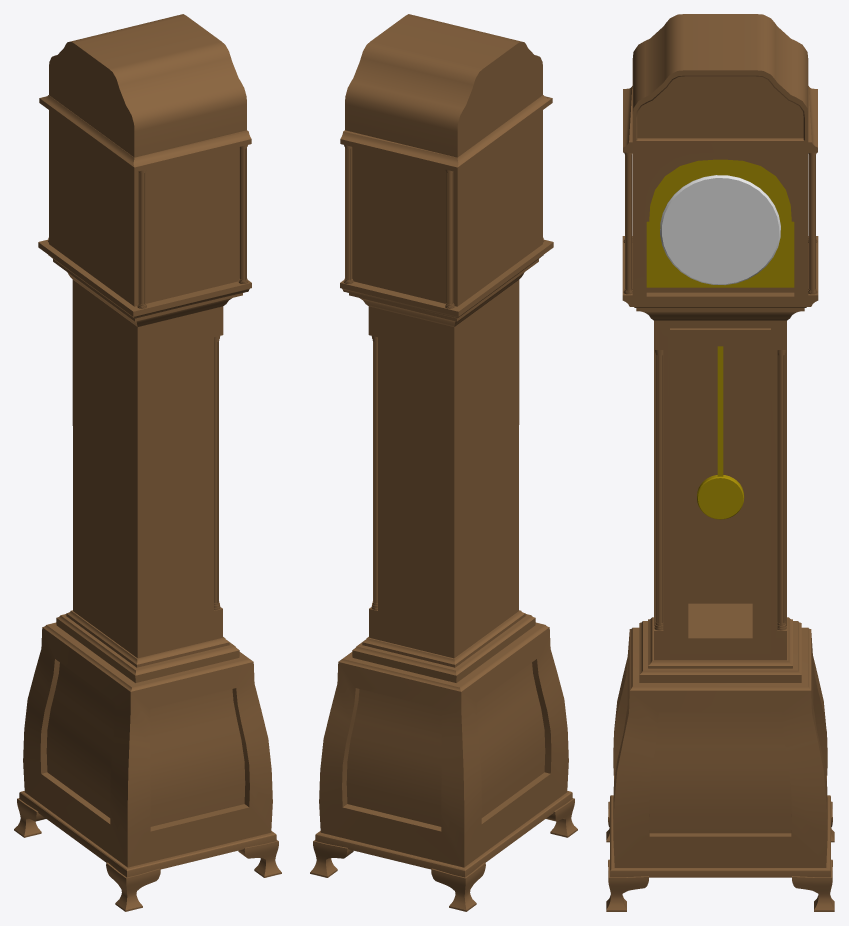
File: retro_clock.fbx
The picture shows the model from 3 angles, left to right: view 1: azimuth 30°, elevation 25°; view 2: azimuth 150°, elevation 25°; view 3: azimuth 270°, elevation 25°; orthographic projection. The views are drawn at different scales.
Parts seen in each view (by area): view 1: clock; view 2: clock; view 3: clock.
Boxes of the visible parts, bbox=[...] form: clock: bbox=[14, 14, 281, 911]; clock: bbox=[310, 14, 577, 911]; clock: bbox=[606, 14, 834, 911].
Bounding box in the file's own units: 2.63 × 13.03 × 3.25.
